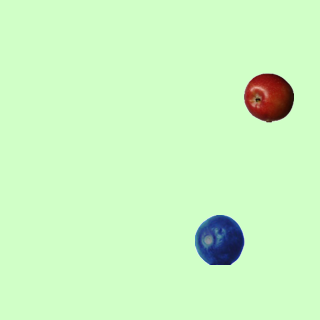Apple Braeburn: (243, 72, 293, 122)
Huckleberry: (194, 214, 244, 264)
